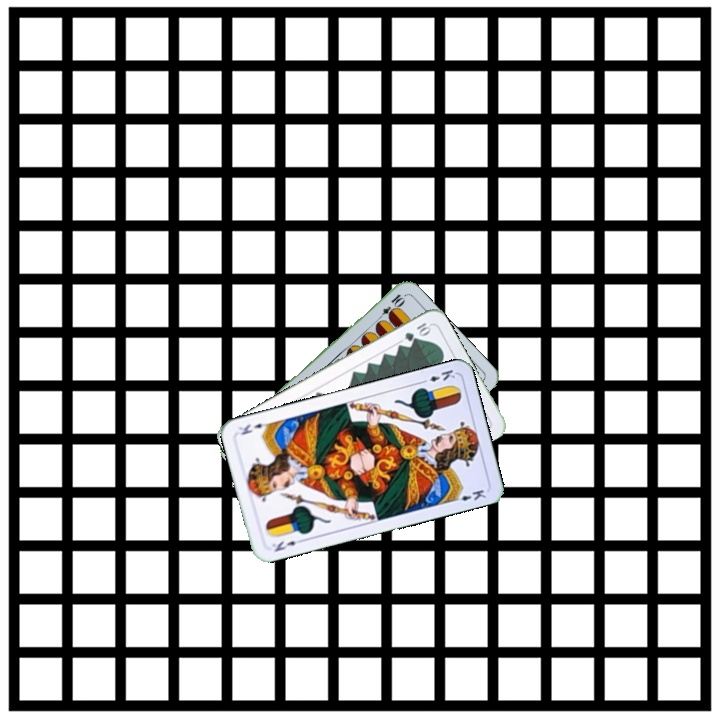E10: (373, 290, 407, 324)
EK: (417, 365, 458, 386), (268, 534, 306, 554)
G10: (400, 318, 433, 344)
